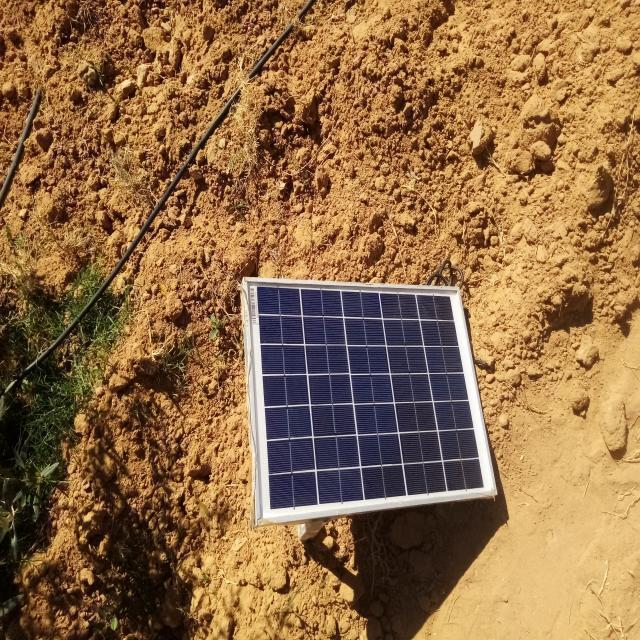Normal Solar Panel: (246, 279, 496, 523)
